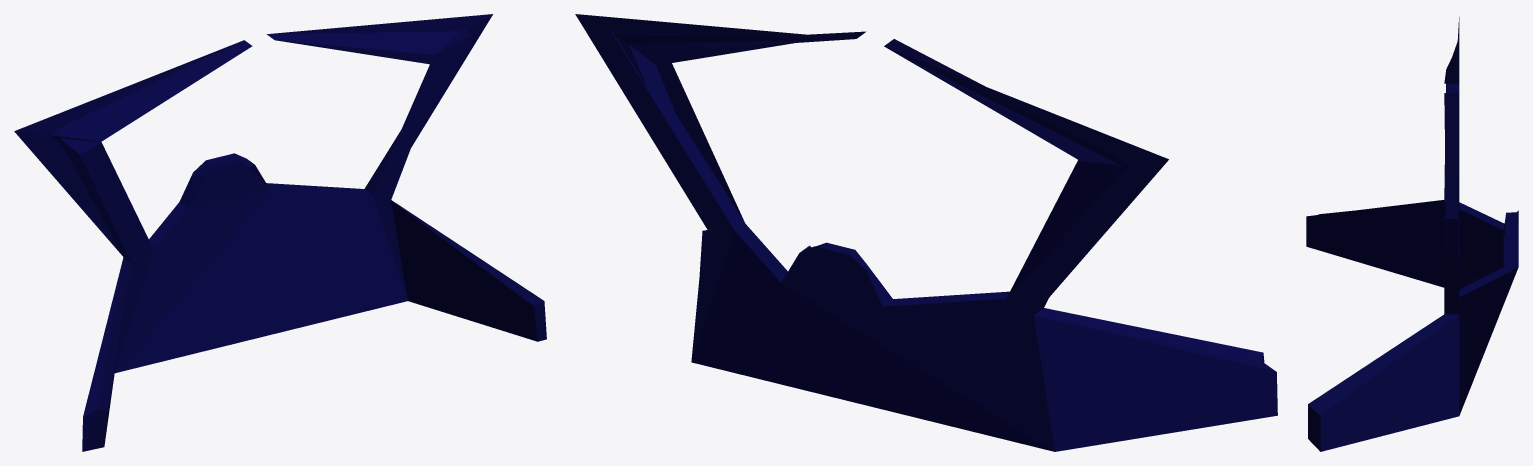
The model's file is nave.obj.
The picture shows the model from 3 angles, left to right: view 1: azimuth 30°, elevation 25°; view 2: azimuth 150°, elevation 25°; view 3: azimuth 270°, elevation 25°; orthographic projection. The views are drawn at different scales.
Visible parts, largest first — view 1: Plane_Plane.002; view 2: Plane_Plane.002; view 3: Plane_Plane.002.
Part boxes in pixels (x1,y1,x2,y2): Plane_Plane.002: [14, 14, 546, 451]; Plane_Plane.002: [575, 14, 1277, 451]; Plane_Plane.002: [1306, 17, 1518, 451].
Size of the model in its own units: 7.96 by 4.64 by 3.32.
